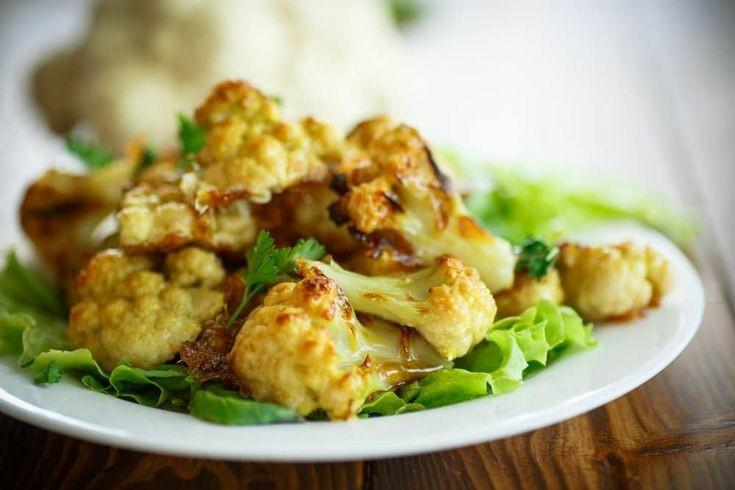AlooGobi: (0, 79, 670, 425)
